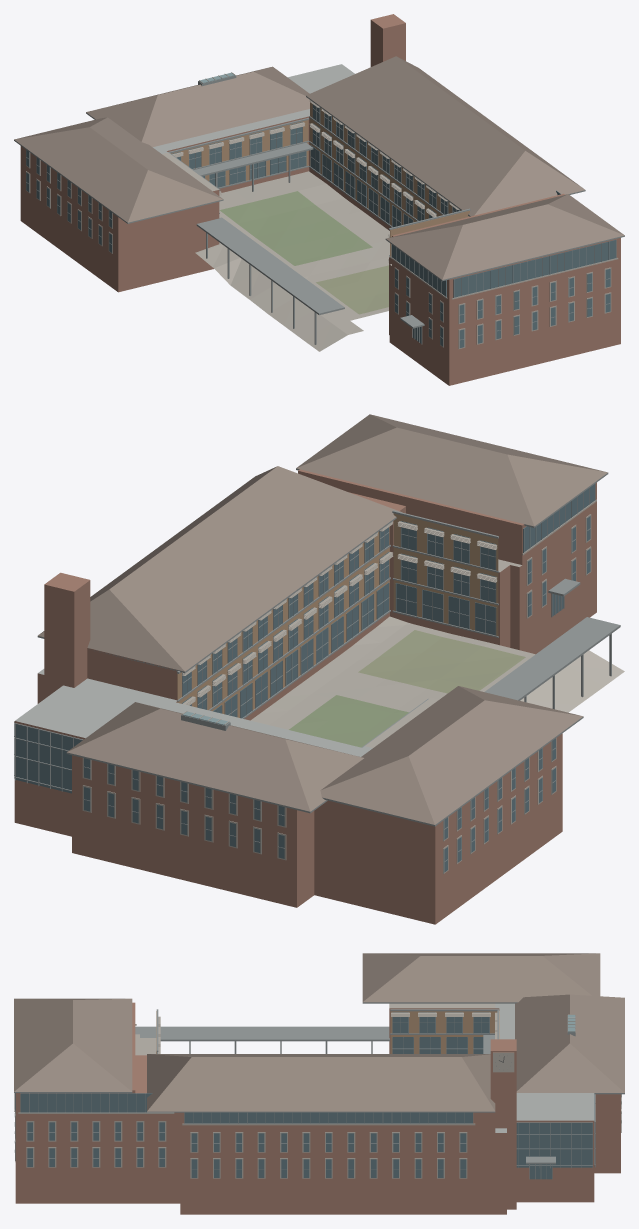
Rendered from site.glb.
3 views of the same model, one above another, from view 1: azimuth 30°, elevation 25°; view 2: azimuth 150°, elevation 25°; view 3: azimuth 270°, elevation 25° (orthographic). The views are drawn at different scales.
Visible parts, largest first — view 1: context-b0010, hedco-courtyard; view 2: context-b0010, hedco-courtyard; view 3: context-b0010.
Boxes of the visible parts, x1,y1,x2,y2 form: context-b0010: (14, 14, 624, 385); hedco-courtyard: (195, 171, 389, 351); context-b0010: (14, 414, 620, 924); hedco-courtyard: (250, 616, 624, 747); context-b0010: (14, 953, 624, 1214).
Size of the model in its own units: 57.39 by 23.46 by 81.9.
